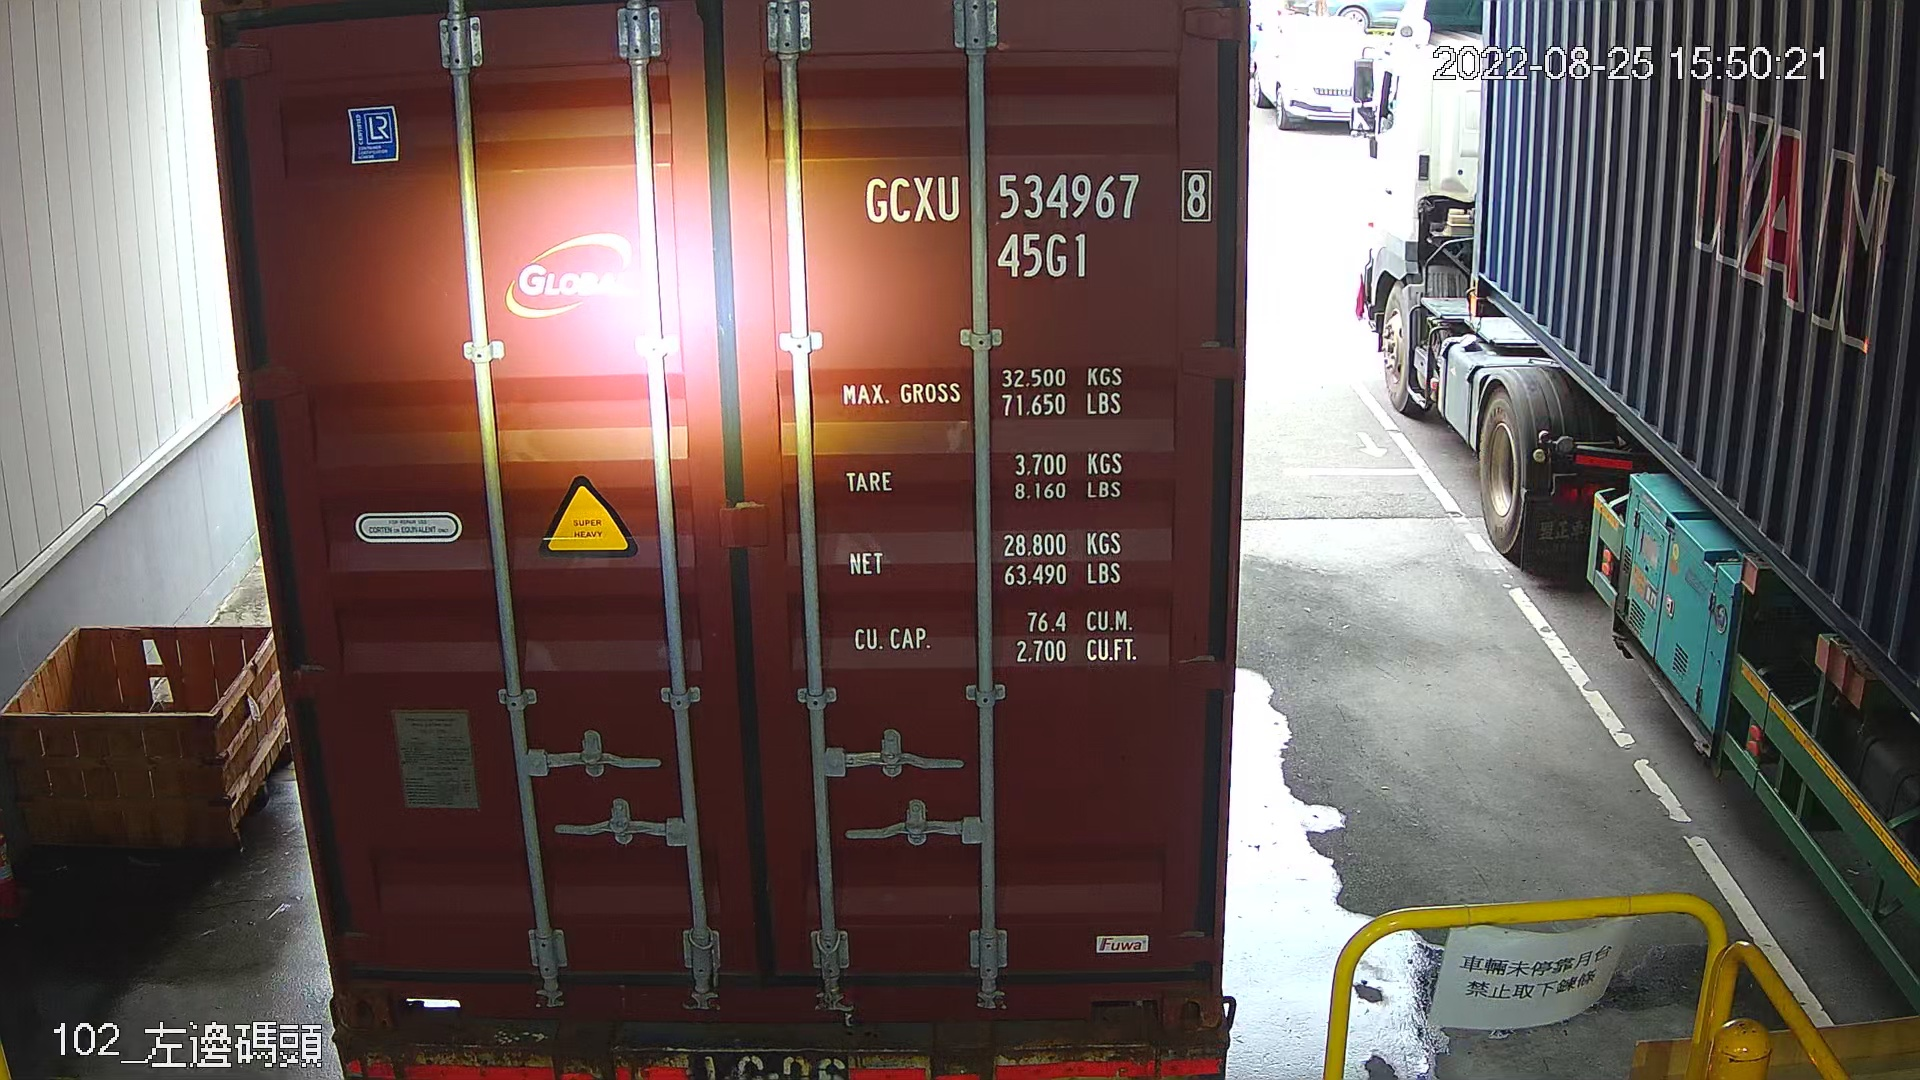container: (851, 156, 1220, 291)
